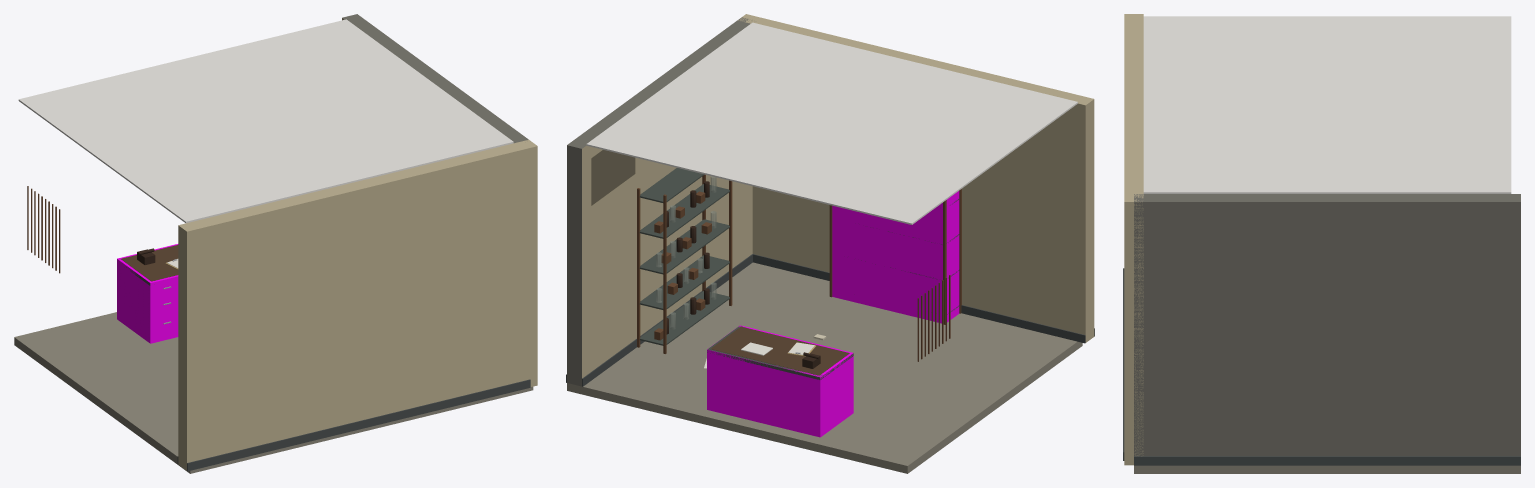
Rendered from ENV_OldMedicationStorage.glb.
3 views of the same model, side by side, from view 1: azimuth 30°, elevation 25°; view 2: azimuth 150°, elevation 25°; view 3: azimuth 270°, elevation 25° (orthographic). The views are drawn at different scales.
Visible parts, largest first — view 1: ENV_OldMedicationStorage_Architecture, ENV_OldMedicationStorage_Ceiling, PROP_Desk_Steel_Tanker_COL-colonly.003, ENV_OldMedicationStorage_Posts, PROP_Desk_Steel_Tanker_Mesh.003, MS_ServingGrille; view 2: ENV_OldMedicationStorage_Architecture, ENV_OldMedicationStorage_Ceiling, PROP_Shelf_Medication_Historic_COL-colonly.001, PROP_Shelf_Medication_Historic_Mesh, PROP_Desk_Steel_Tanker_COL-colonly.003, PROP_Desk_Steel_Tanker_Mesh.003, ENV_OldMedicationStorage_Decay, PROP_Shelf_Medication_Historic_Mesh.001, MS_ServingGrille; view 3: ENV_OldMedicationStorage_Architecture, ENV_OldMedicationStorage_Ceiling, ENV_OldMedicationStorage_Posts.
Part boxes in pixels (x1,y1,x2,y2): ENV_OldMedicationStorage_Architecture: (14,14,533,473); ENV_OldMedicationStorage_Ceiling: (18,19,513,223); PROP_Desk_Steel_Tanker_COL-colonly.003: (117,244,178,343); ENV_OldMedicationStorage_Posts: (514,139,537,386); PROP_Desk_Steel_Tanker_Mesh.003: (121,245,178,324); MS_ServingGrille: (27,186,60,273); ENV_OldMedicationStorage_Architecture: (566,16,1094,473); ENV_OldMedicationStorage_Ceiling: (586,22,1077,224); PROP_Shelf_Medication_Historic_COL-colonly.001: (832,191,959,323); PROP_Shelf_Medication_Historic_Mesh: (637,168,732,353); PROP_Desk_Steel_Tanker_COL-colonly.003: (707,325,853,437); PROP_Desk_Steel_Tanker_Mesh.003: (707,326,853,379); ENV_OldMedicationStorage_Decay: (591,150,635,205); PROP_Shelf_Medication_Historic_Mesh.001: (829,189,961,324); MS_ServingGrille: (917,275,950,361); ENV_OldMedicationStorage_Architecture: (1123,14,1520,473); ENV_OldMedicationStorage_Ceiling: (1143,16,1511,193); ENV_OldMedicationStorage_Posts: (1124,194,1143,465).
Size of what is drawn, in the model's own units: 4.61 by 3.12 by 4.11.
